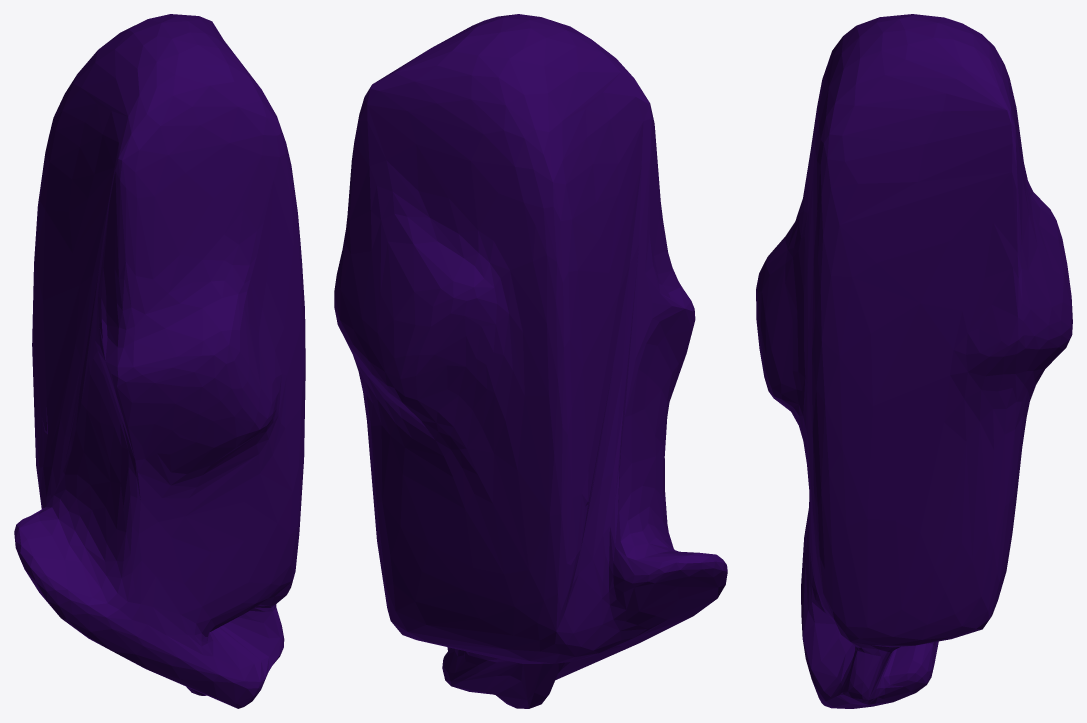
3 renders of one model, left to right at view 1: azimuth 30°, elevation 25°; view 2: azimuth 150°, elevation 25°; view 3: azimuth 270°, elevation 25°, orthographic. The views are drawn at different scales.
Visible parts, largest first — view 1: 844_Cube.3406; view 2: 844_Cube.3406; view 3: 844_Cube.3406.
Part boxes in pixels (x1,y1,x2,y2): 844_Cube.3406: [14, 14, 305, 708]; 844_Cube.3406: [334, 14, 727, 708]; 844_Cube.3406: [756, 14, 1072, 708].
Bounding box in the file's own units: 6.05 × 13.21 × 5.67.
